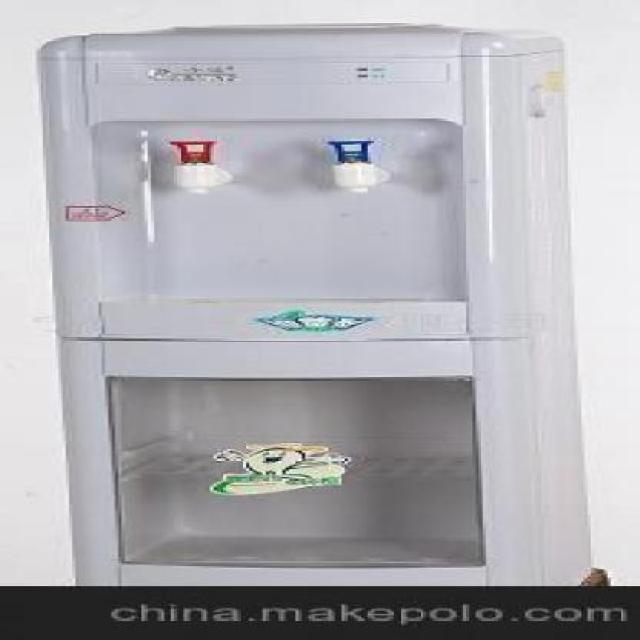cooler: (25, 21, 617, 588)
